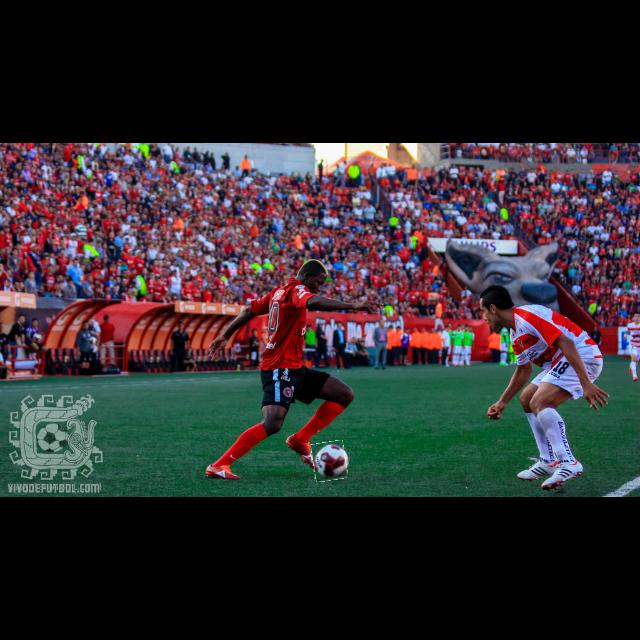Football: (312, 441, 348, 481)
